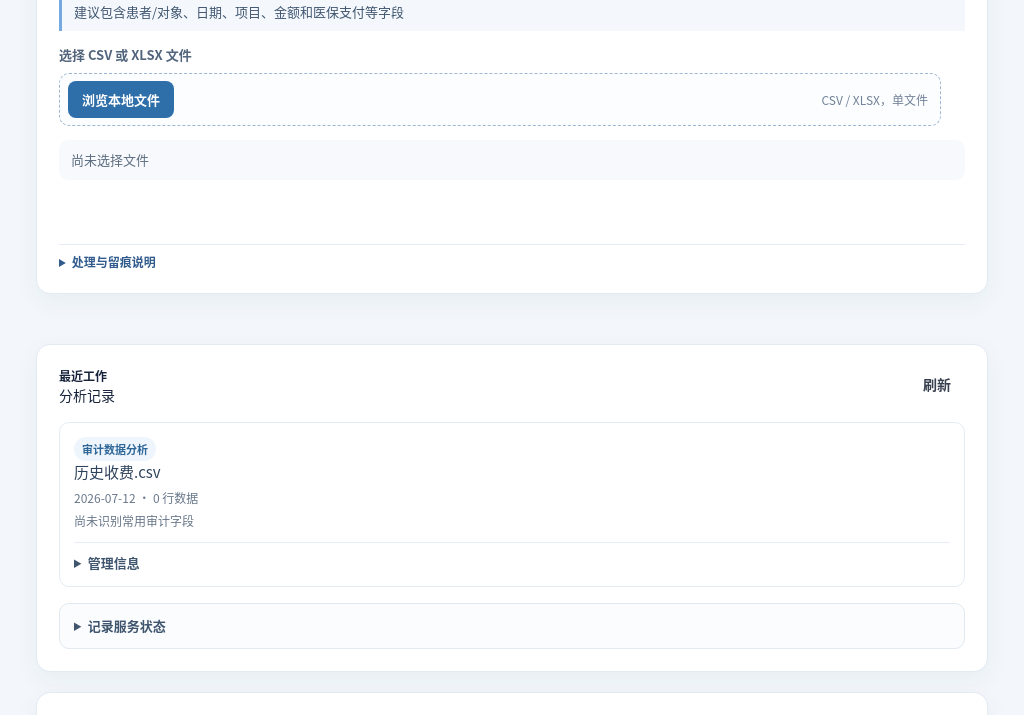
Test case: ReplicaAnalyticsWorkbench › keeps history useful for auditors while placing implementation fields in details
This screenshot has width=1024, height=715.
(page scrolled)
Expected: the text "审计数据分析" is shown, [74,437,156,461]
Expected: the text "2026-07-12 · 0 行数据" is shown, [74,489,198,506]
Click the button "刷新" at (937, 385), box [909,367,965,403]
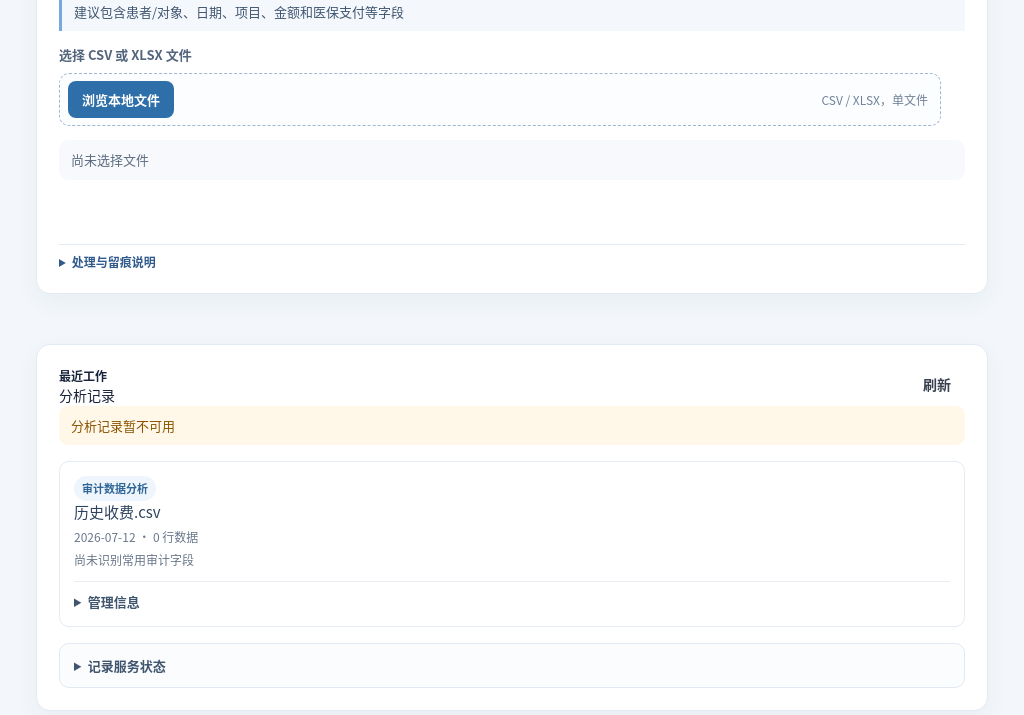
Now the text "分析记录暂不可用" is shown, box [59,406,965,445]
Click the button "刷新" at (937, 385), box [909,367,965,403]
(page scrolled)
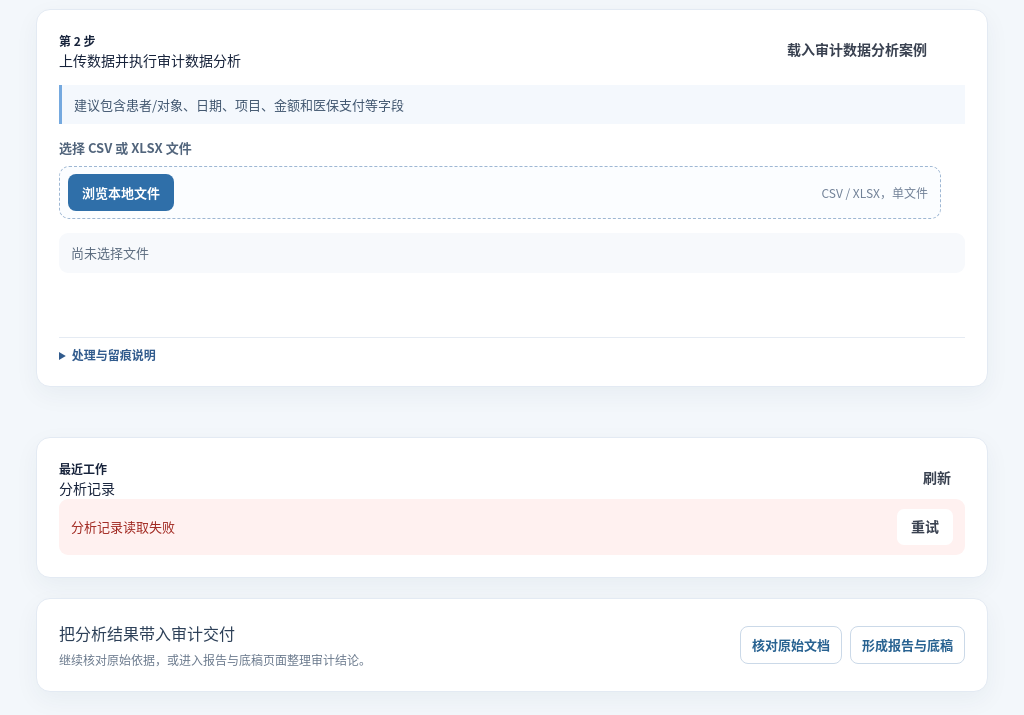
Now the text "分析记录读取失败" is shown, box [71,517,175,536]
Click the button "重试" at (925, 527), box [897,509,953,545]
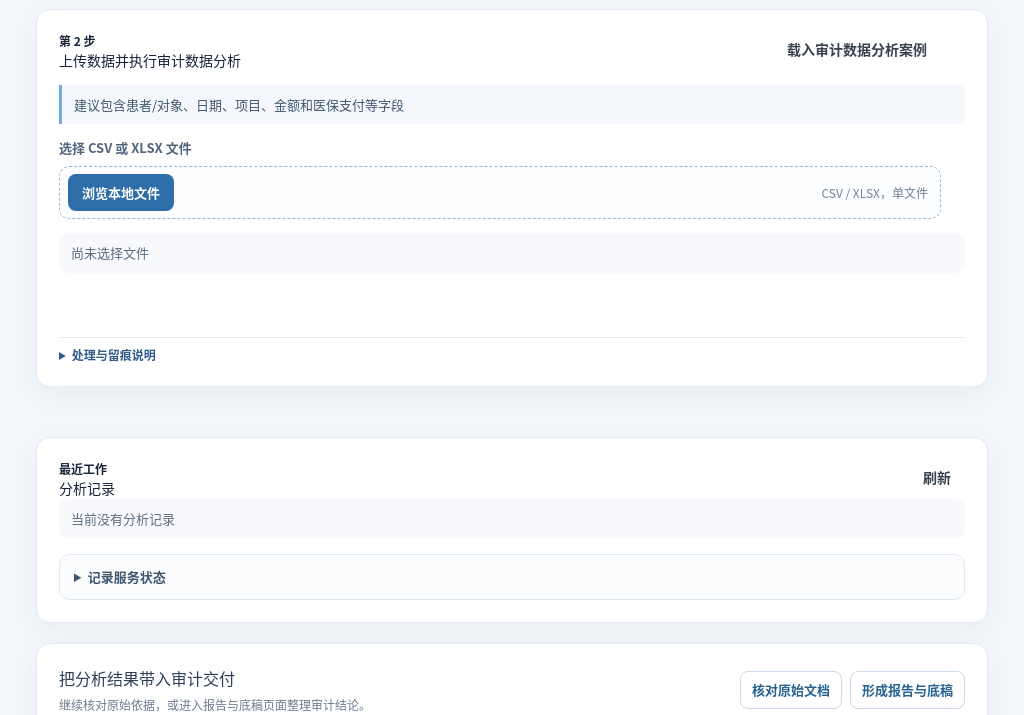
Now the text "当前没有分析记录" is shown, box [59,499,965,538]
